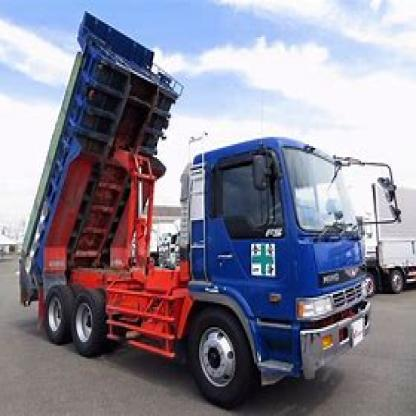dump_truck: (18, 22, 382, 385)
